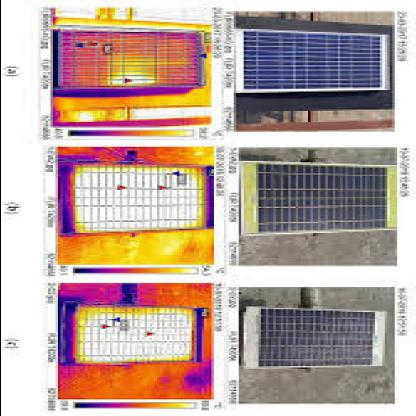Defects: (106, 74, 156, 84)
